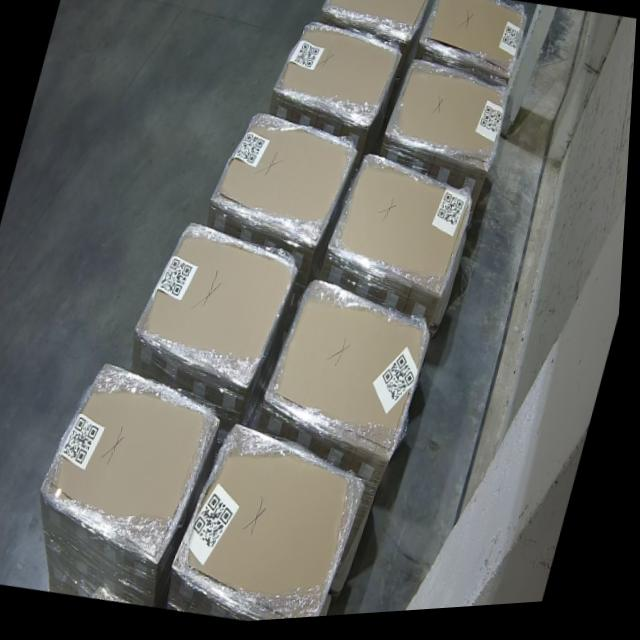pallet: (180, 424, 375, 623), (45, 366, 223, 568), (269, 284, 437, 465), (136, 226, 300, 393), (333, 156, 481, 306), (213, 109, 358, 251), (384, 68, 514, 179), (274, 24, 403, 132), (421, 0, 529, 84), (319, 0, 431, 45)
